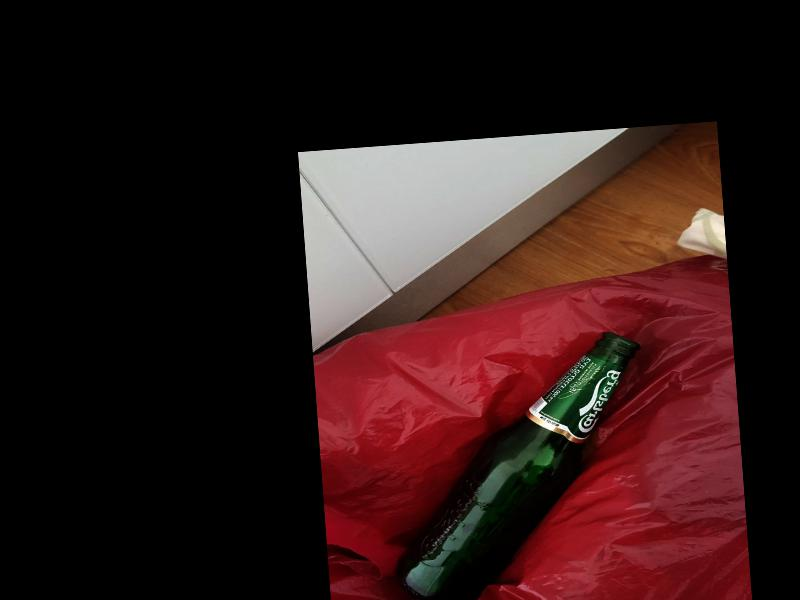Beer: (383, 329, 658, 600)
